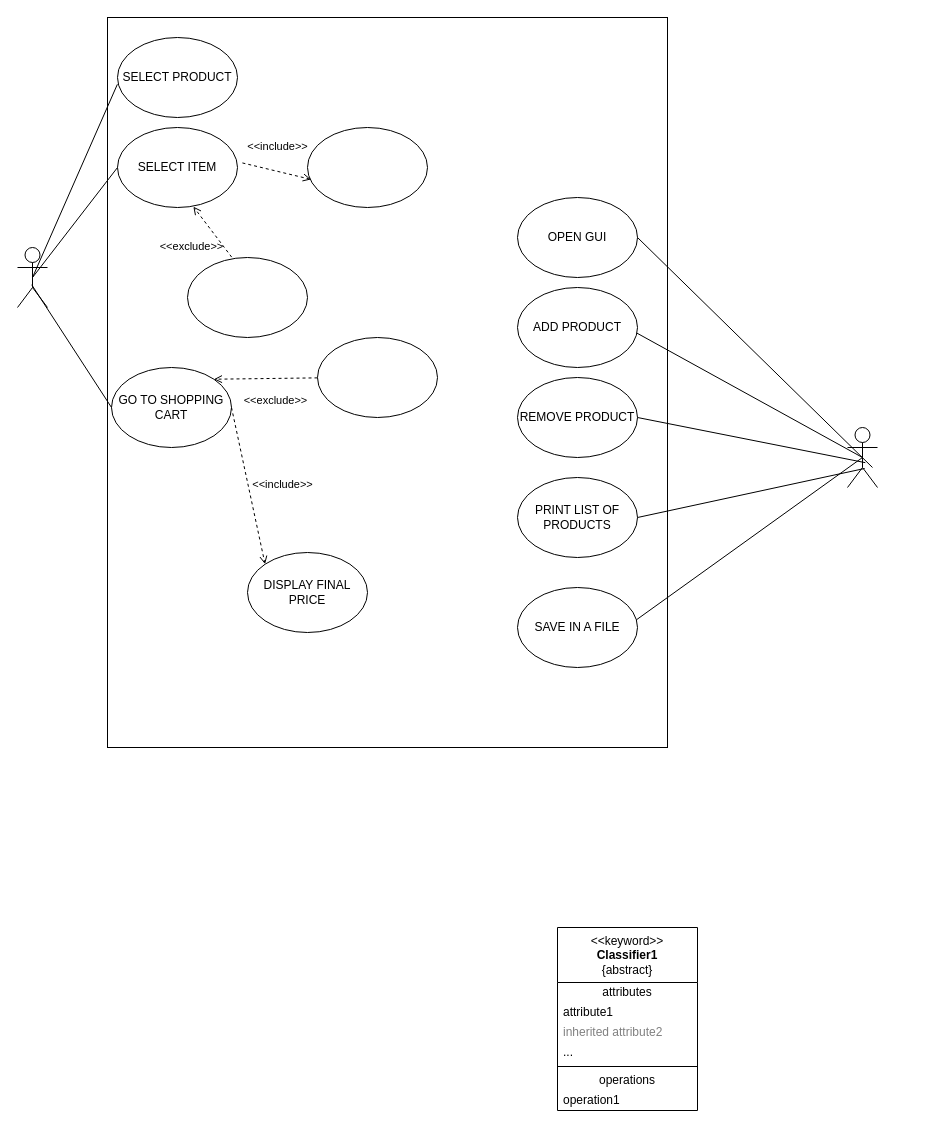
Some shapes in this 925 by 1128 pixel diagram are drawn without their labels. Here are the shapes that lost their labels. From the top down, the centre of each, then its label:
point 367,167: DISPLAY DETAILS OF THE ITEM
point 32,277: User
point 247,297: ADD AN ITEM
point 377,377: REMOVE ITEM
point 862,457: System manager
